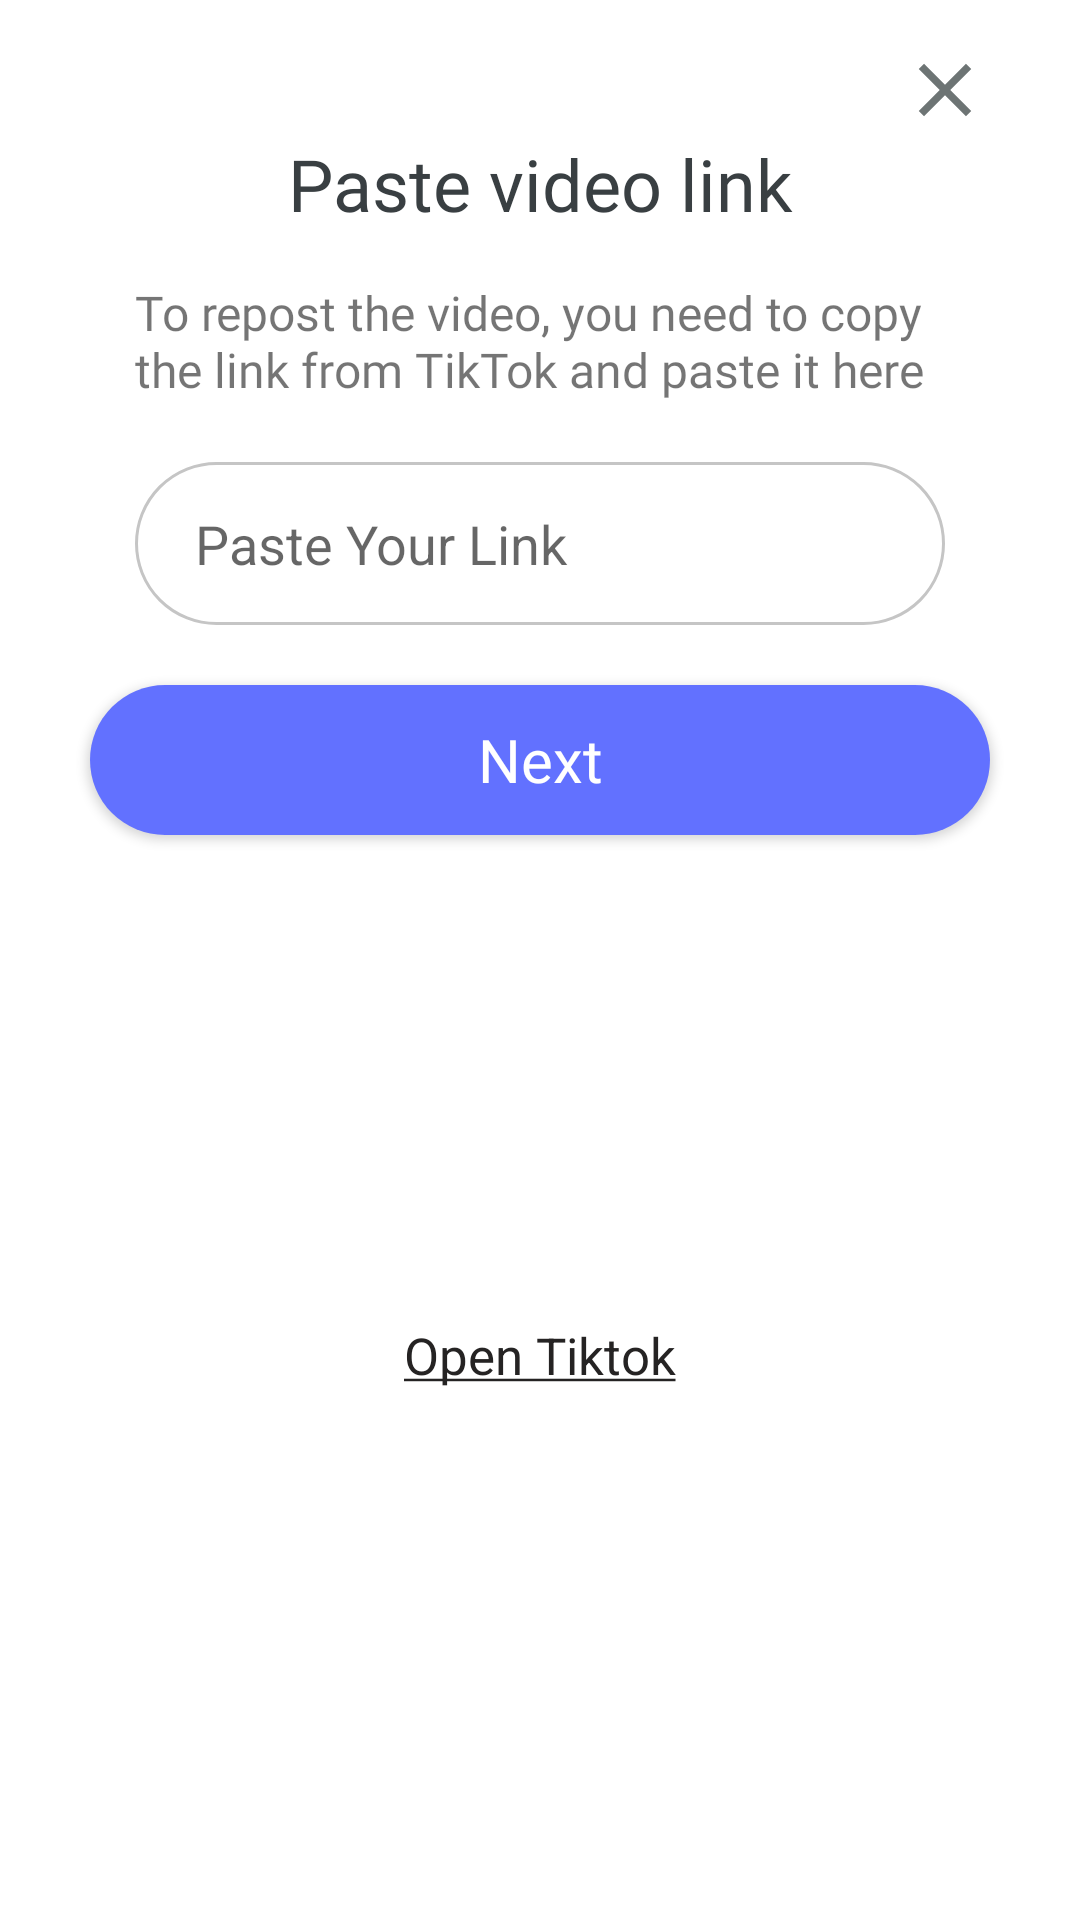

Where icons sit on this 1080 × 1920 app screen, as (x1, y1, x2, y2):
close: (919, 64, 971, 116)
